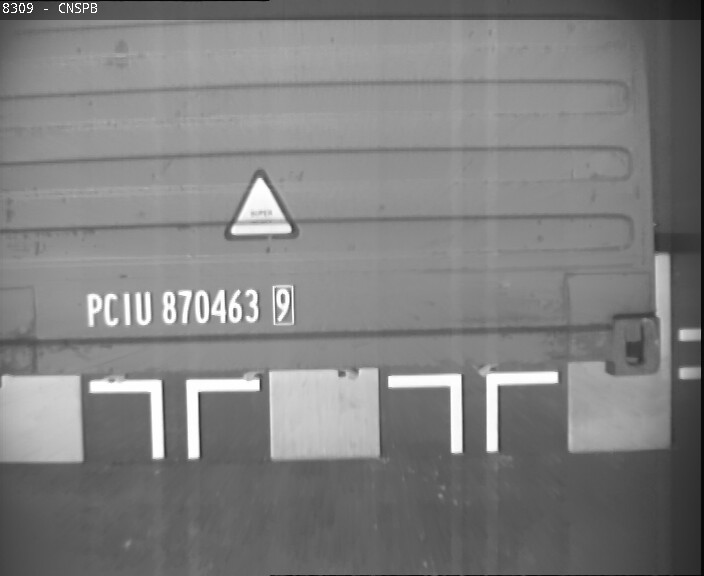groundmarker_1: (88, 377, 258, 459), (388, 370, 558, 451)
